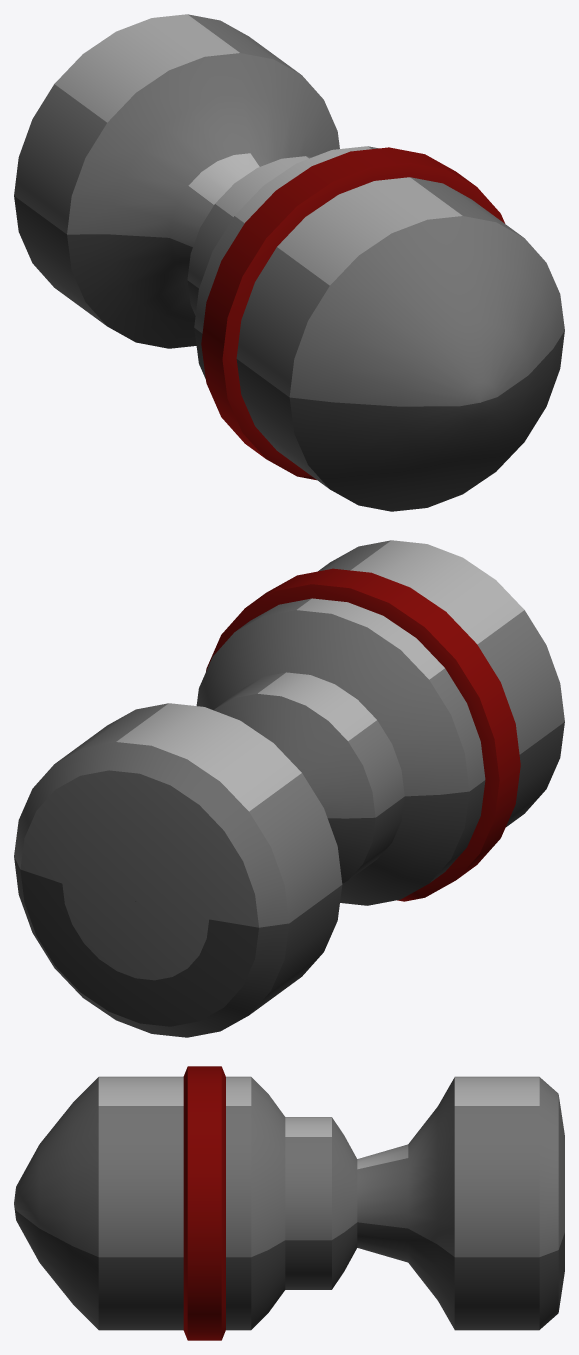
The model's file is squad_bolt.glb.
3 views of the same model, one above another, from view 1: azimuth 30°, elevation 25°; view 2: azimuth 150°, elevation 25°; view 3: azimuth 270°, elevation 25° (orthographic). The views are drawn at different scales.
Parts seen in each view (by area): view 1: bolt, band; view 2: bolt, band; view 3: bolt, band.
Part boxes in pixels (left/top/right/bottom): bolt: left=14, top=14, right=564, bottom=511; band: left=201, top=147, right=505, bottom=480; bolt: left=14, top=540, right=564, bottom=1037; band: left=206, top=568, right=520, bottom=901; bolt: left=14, top=1076, right=564, bottom=1330; band: left=183, top=1066, right=225, bottom=1340.
Bounding box in the file's own units: 6.5 × 6.25 × 13.
